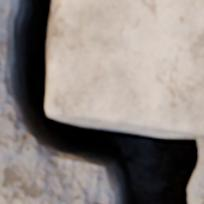brick: (47, 0, 203, 135)
crack: (0, 0, 202, 203)
